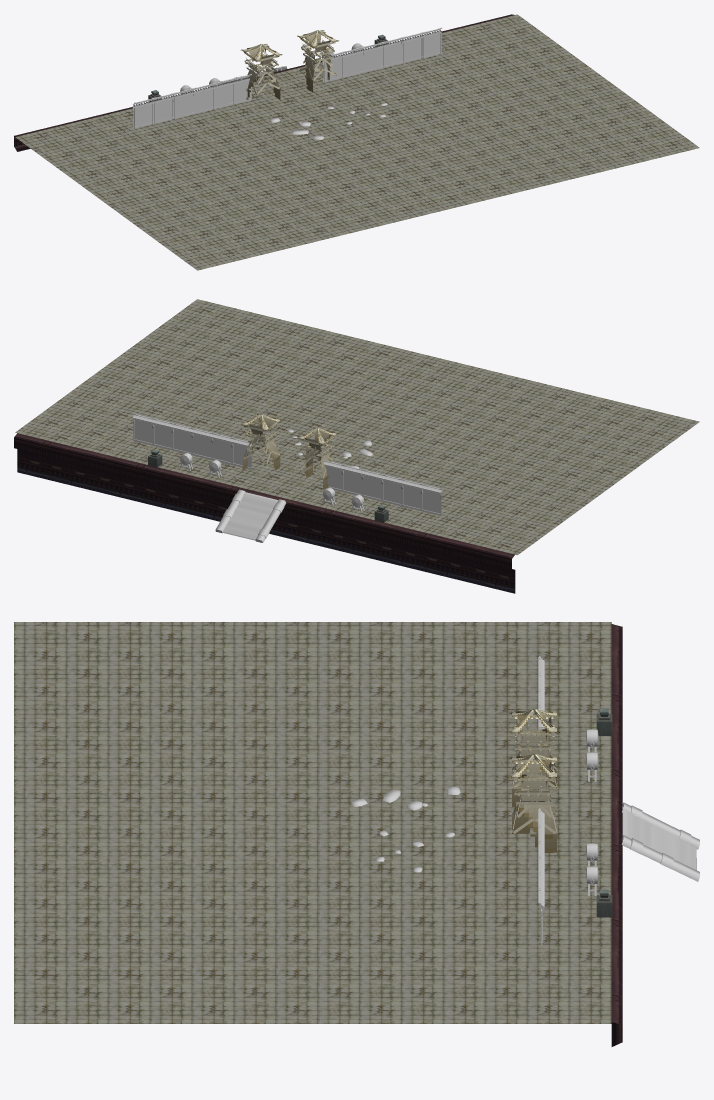
3 views of the same model, one above another, from view 1: azimuth 30°, elevation 25°; view 2: azimuth 150°, elevation 25°; view 3: azimuth 270°, elevation 25° (orthographic). The views are drawn at different scales.
Parts seen in each view (by area): view 1: Rectangle002, qiangti010, Group003; view 2: Rectangle002, Group003, qiangti010, gu006; view 3: Rectangle002, Group003, qiangti010, gu006.
Part boxes in pixels (<box>): Rectangle002: <box>15,14,699,270</box>; qiangti010: <box>132,27,442,128</box>; Group003: <box>14,14,514,151</box>; Rectangle002: <box>15,299,699,555</box>; Group003: <box>14,414,515,593</box>; qiangti010: <box>132,413,442,515</box>; gu006: <box>180,453,364,512</box>; Rectangle002: <box>14,622,611,1023</box>; Group003: <box>351,624,699,1046</box>; qiangti010: <box>538,656,544,945</box>; gu006: <box>586,729,598,895</box>.
Size of the model in its own units: 6747 by 1241 by 4868.
